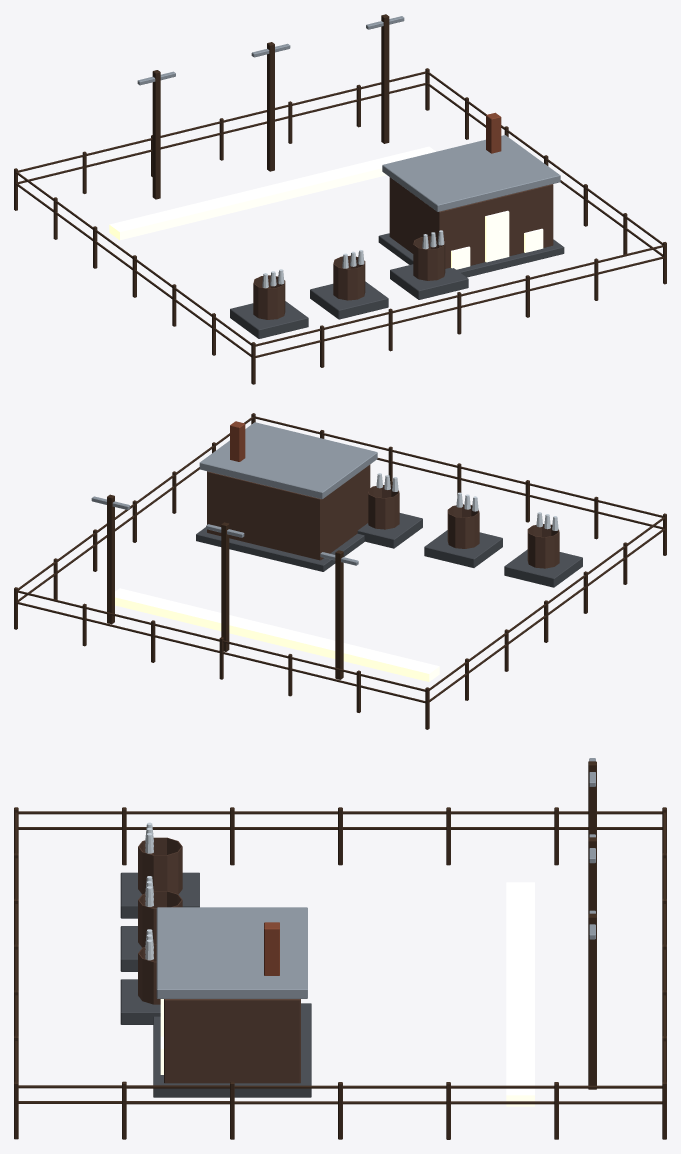
Rendered from Hut_Power_0_-2.fbx.
The picture shows the model from 3 angles, top to bottom: view 1: azimuth 30°, elevation 25°; view 2: azimuth 150°, elevation 25°; view 3: azimuth 270°, elevation 25°; orthographic projection. The views are drawn at different scales.
Parts seen in each view (by area): view 1: Hut_Power_0_-2; view 2: Hut_Power_0_-2; view 3: Hut_Power_0_-2.
Part boxes in pixels (x1,y1,x2,y2): Hut_Power_0_-2: (14,14,666,384); Hut_Power_0_-2: (14,413,666,729); Hut_Power_0_-2: (14,758,666,1139).
Bounding box in the file's own units: 1813 × 547 × 1813.
